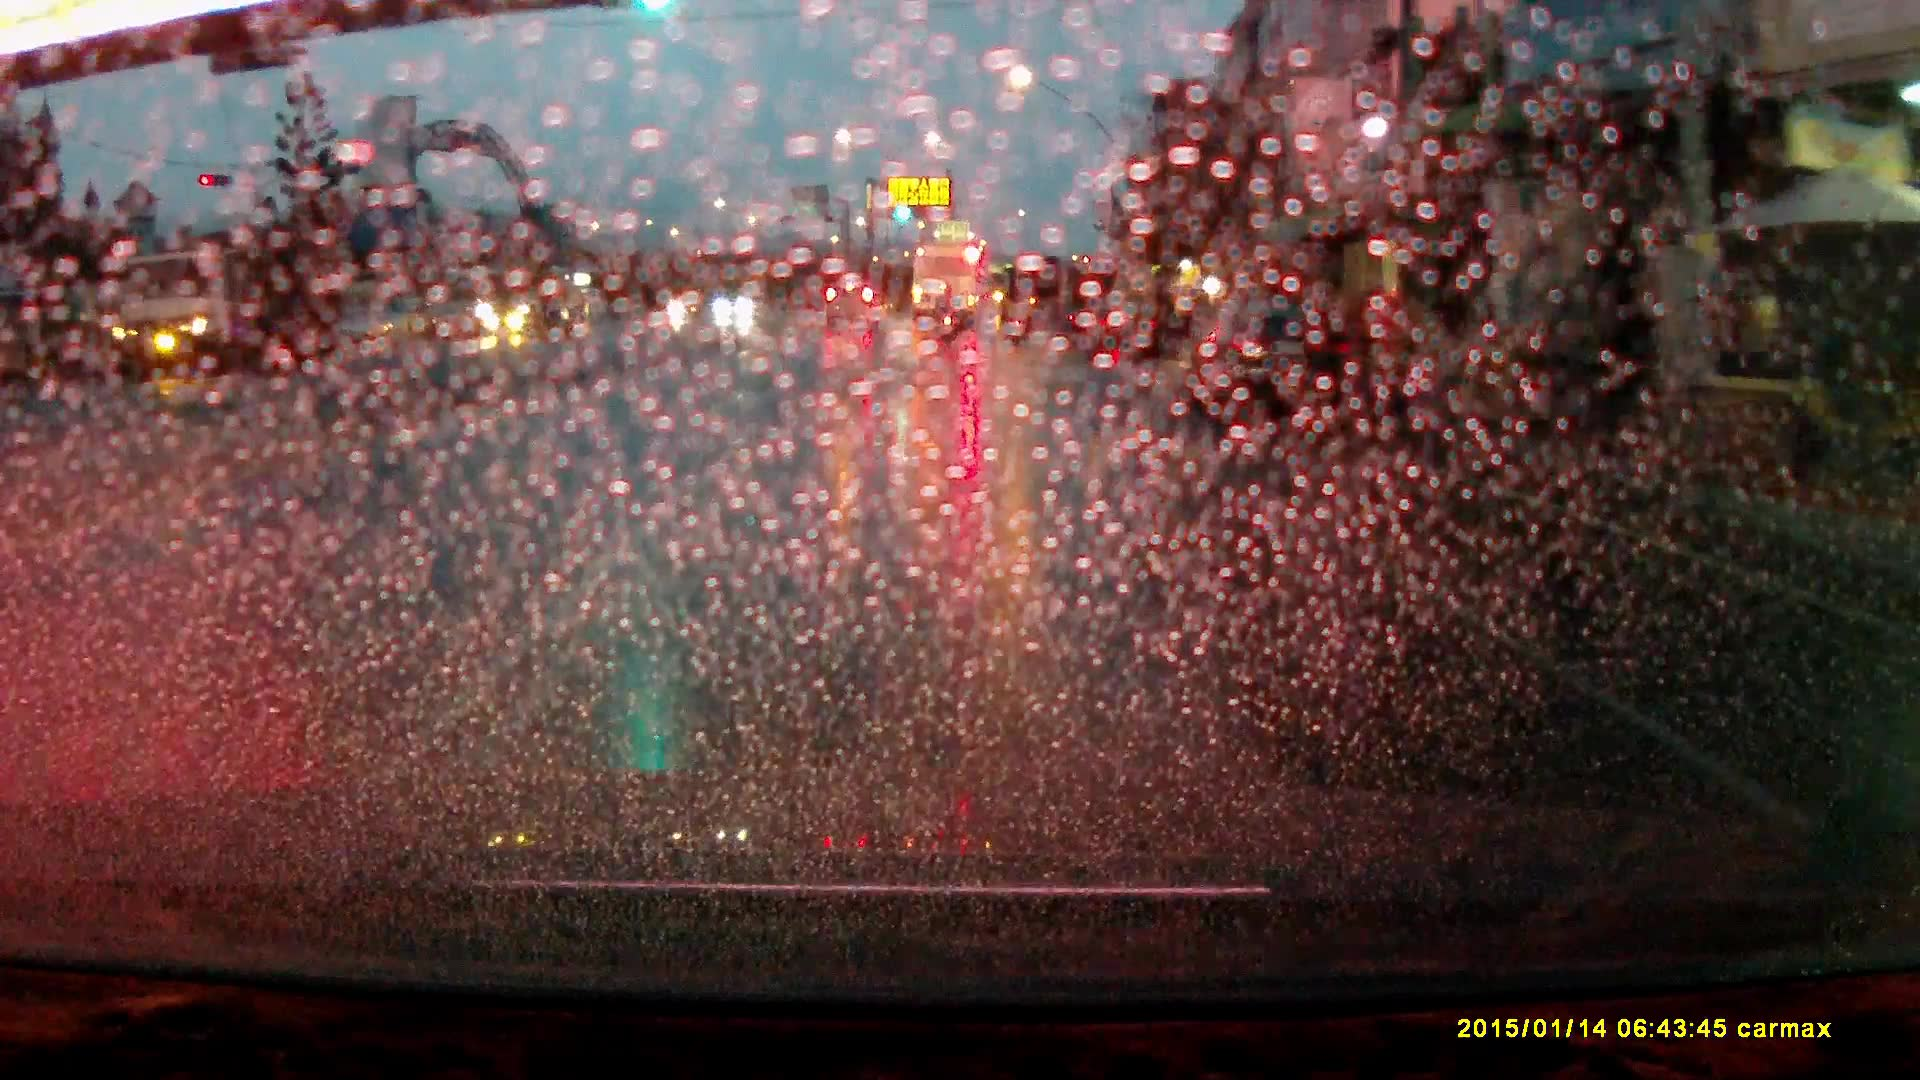rider: (936, 289, 964, 351)
vehicle: (104, 250, 314, 381), (1186, 311, 1367, 419), (479, 264, 581, 339), (911, 245, 980, 330), (1084, 303, 1164, 359), (825, 286, 884, 334), (712, 293, 759, 322)
